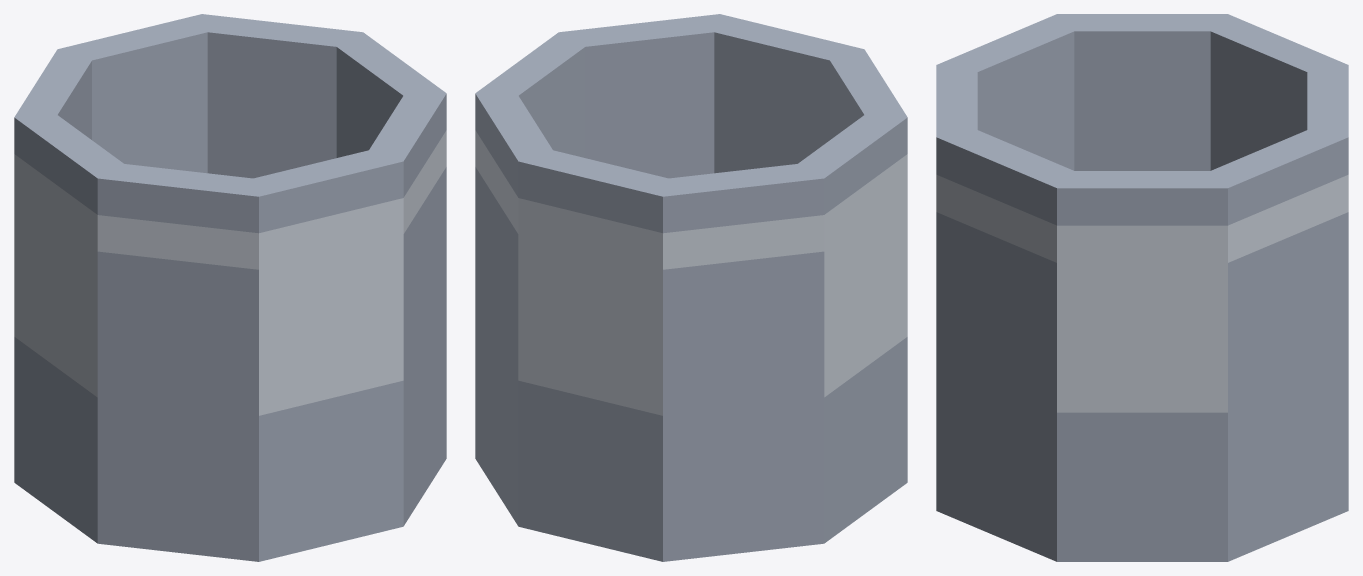
Rendered from rocket_fuelB.glb.
3 views of the same model, side by side, from view 1: azimuth 30°, elevation 25°; view 2: azimuth 150°, elevation 25°; view 3: azimuth 270°, elevation 25° (orthographic). The views are drawn at different scales.
Parts seen in each view (by area): view 1: rocket_fuelB; view 2: rocket_fuelB; view 3: rocket_fuelB.
Part boxes in pixels (x1,y1,x2,y2): rocket_fuelB: [14, 14, 446, 561]; rocket_fuelB: [475, 14, 907, 561]; rocket_fuelB: [936, 14, 1348, 561].
Size of the model in its own units: 1 by 1 by 1.
